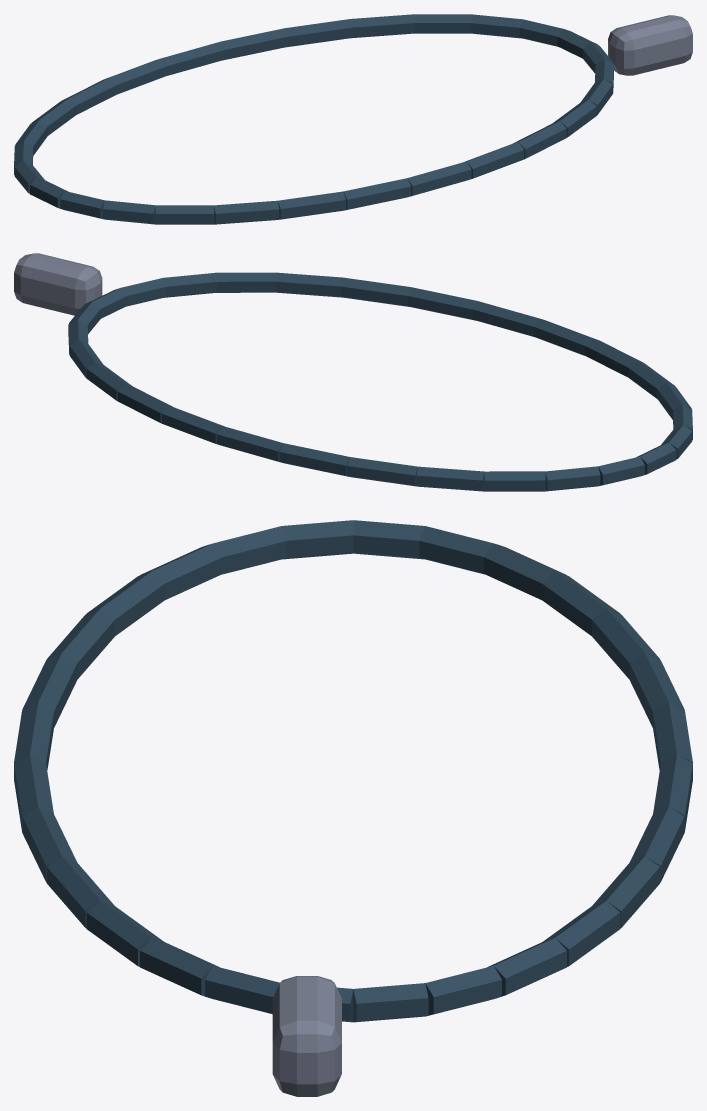
The model's file is cable_loop.glb.
The picture shows the model from 3 angles, top to bottom: view 1: azimuth 30°, elevation 25°; view 2: azimuth 150°, elevation 25°; view 3: azimuth 270°, elevation 25°; orthographic projection. The views are drawn at different scales.
Parts seen in each view (by area): view 1: cable_loop_Mesh; view 2: cable_loop_Mesh; view 3: cable_loop_Mesh.
Boxes of the visible parts, x1,y1,x2,y2 form: cable_loop_Mesh: [14, 14, 692, 224]; cable_loop_Mesh: [14, 253, 692, 491]; cable_loop_Mesh: [14, 520, 692, 1096].
Bounding box in the file's own units: 0.2799 × 0.018 × 0.1469.
